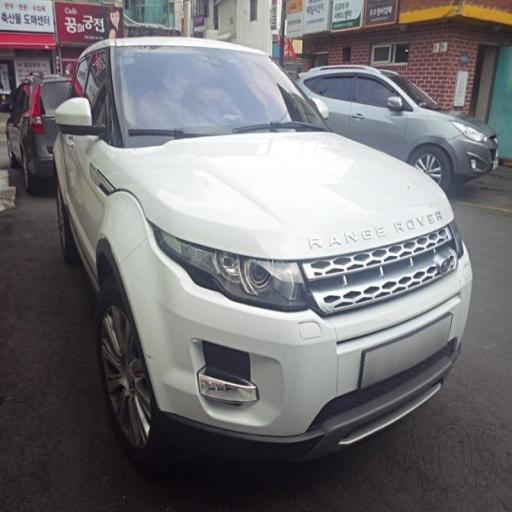dent: (92, 138, 325, 422)
